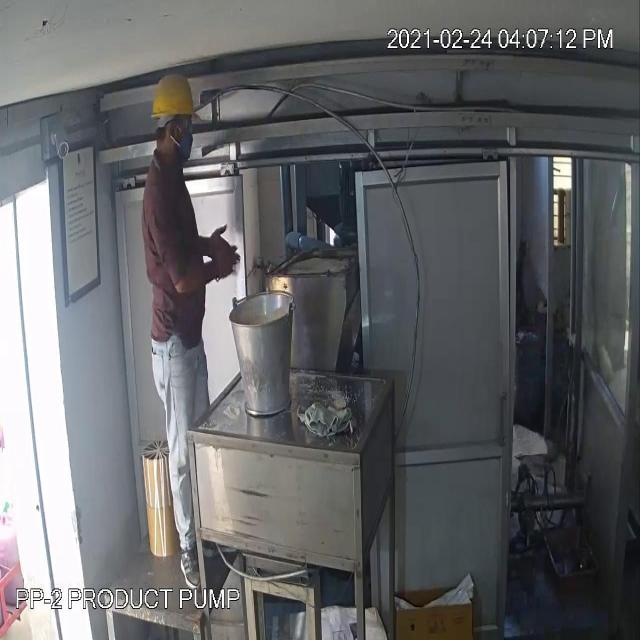helmet: (146, 59, 202, 135)
